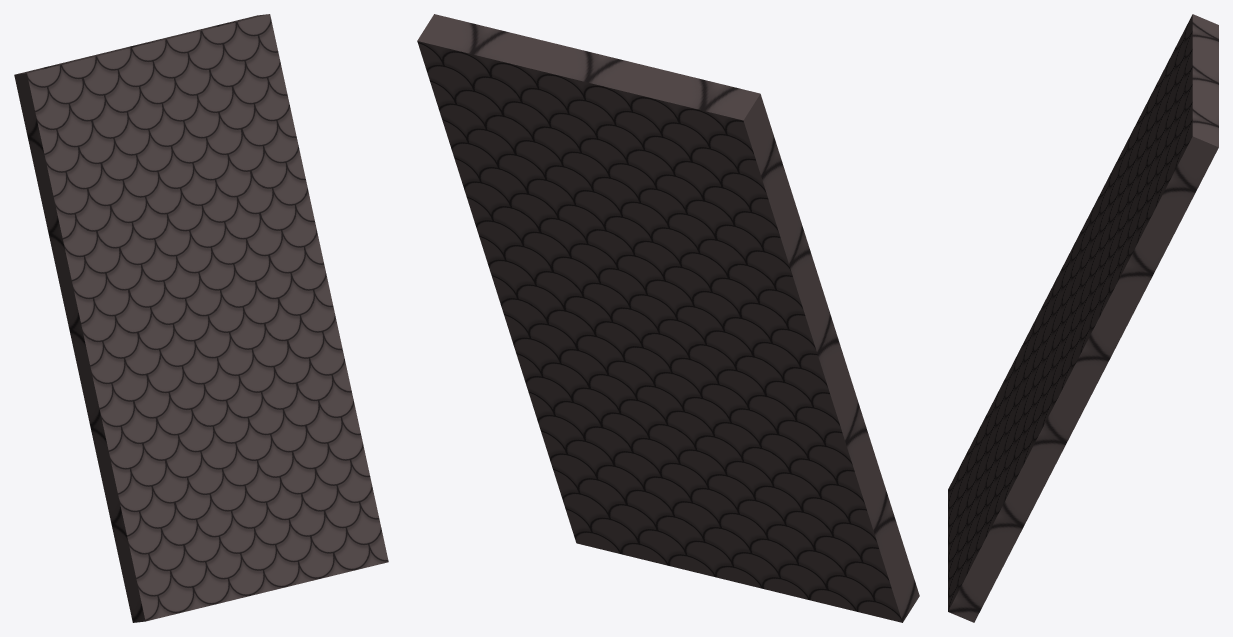
Rendered from schoolroofSide.fbx.
The picture shows the model from 3 angles, left to right: view 1: azimuth 30°, elevation 25°; view 2: azimuth 150°, elevation 25°; view 3: azimuth 270°, elevation 25°; orthographic projection. The views are drawn at different scales.
Parts seen in each view (by area): view 1: roofSide; view 2: roofSide; view 3: roofSide.
Boxes of the visible parts, x1=… form: roofSide: x1=14, y1=14, x2=388, y2=622; roofSide: x1=417, y1=14, x2=919, y2=622; roofSide: x1=948, y1=14, x2=1218, y2=622.
Size of the model in its own units: 300 by 556 by 281.
1 material, 1 textured.
